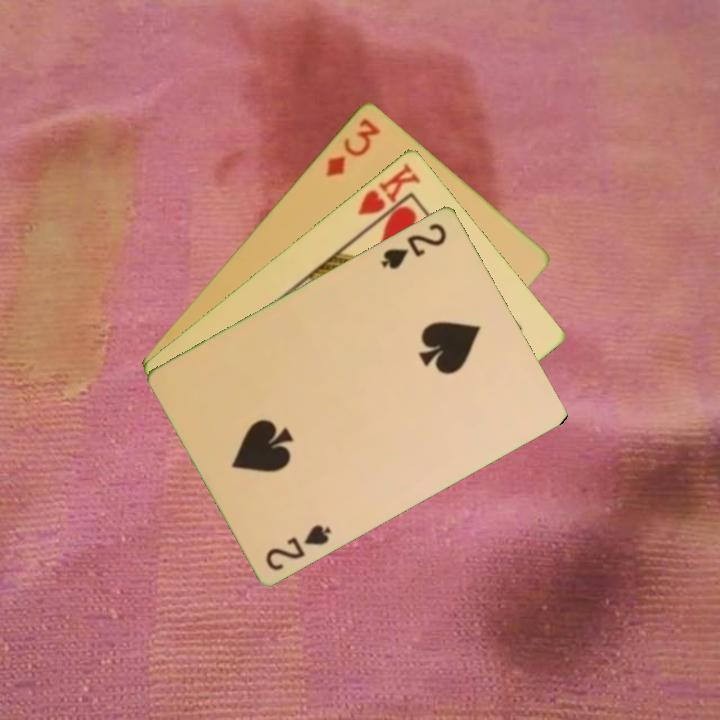2s: (377, 218, 450, 272), (262, 520, 334, 573)
3d: (322, 113, 383, 180)
Kh: (353, 159, 424, 232)
